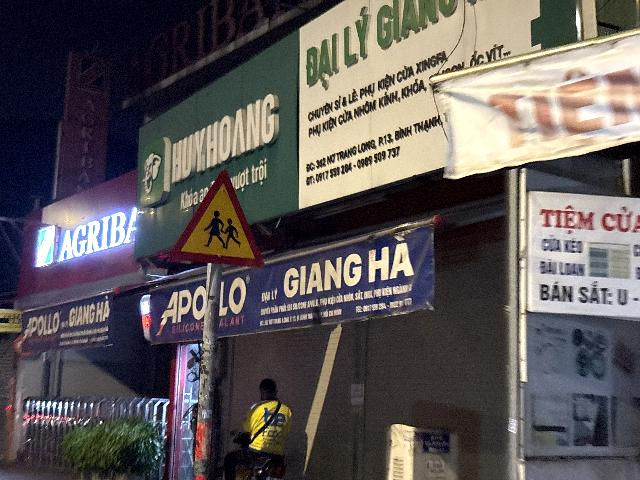tre-em-qua-duong: (167, 167, 264, 269)
